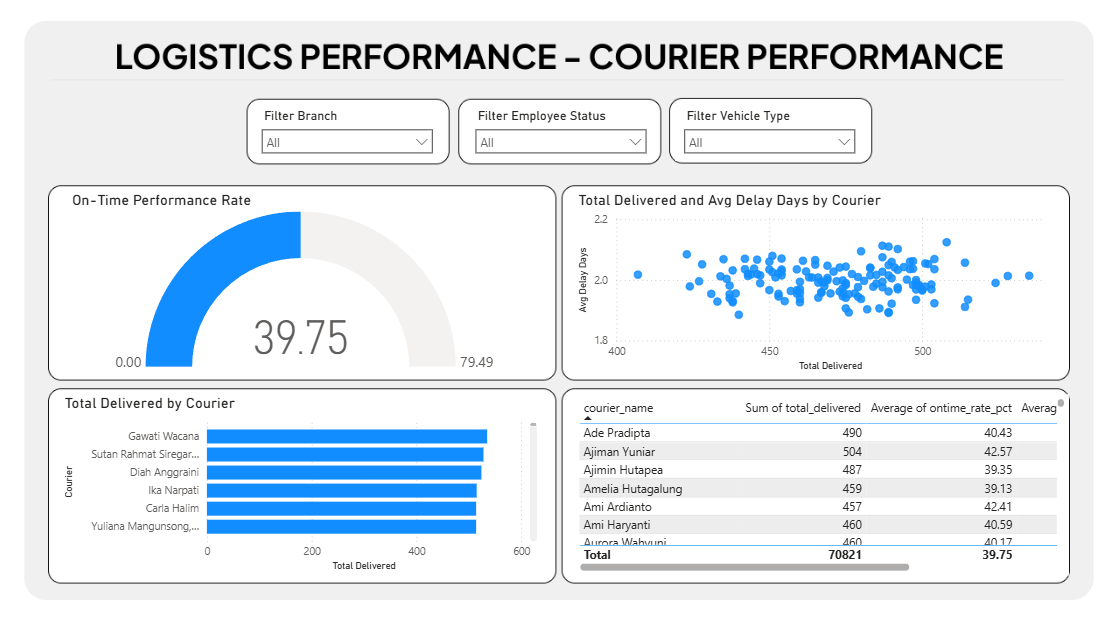

What the dashboard file says about the page in this screenshot:
{"tool":"powerbi","page":{"name":"Courier Performance","canvas":[1280,720],"ordinal":3},"visuals":[{"type":"gauge","fields":{"Y":["Avg(dw vw_CourierPerformance.ontime_rate_pct)"]},"box":[78.6,220,541.4,211.4],"z":0},{"type":"clusteredBarChart","fields":{"Category":["dw vw_CourierPerformance.courier_name"],"Y":["Sum(dw vw_CourierPerformance.total_delivered)"]},"box":[70,452.9,550,207.1],"z":1000},{"type":"scatterChart","fields":{"X":["Sum(dw vw_CourierPerformance.total_delivered)"],"Y":["Avg(dw vw_CourierPerformance.avg_delay_days)"],"Category":["dw vw_CourierPerformance.courier_name"]},"box":[657.1,220,552.9,211.4],"z":2000},{"type":"tableEx","fields":{"Values":["dw vw_CourierPerformance.courier_name","Sum(dw vw_CourierPerformance.total_delivered)","Avg(dw vw_CourierPerformance.ontime_rate_pct)","Avg(dw vw_CourierPerformance.avg_delay_days)","Sum(dw vw_CourierPerformance.total_gagal)"]},"box":[657.1,452.9,565.7,207.1],"z":3000},{"type":"slicer","fields":{"Values":["dw vw_CourierPerformance.branch_name"]},"box":[290,121.8,215.5,64.5],"z":4000},{"type":"slicer","fields":{"Values":["dw vw_CourierPerformance.vehicle_type"]},"box":[772.7,121.8,215.5,64.5],"z":5000},{"type":"slicer","fields":{"Values":["dw vw_CourierPerformance.employee_status"]},"box":[534.5,121.8,215.5,64.5],"z":6000}]}

Visuals, with their boxes in screenshot pixels (x1, y1, x2, y2), scaled from the page's 1280x720 canvas onto the 1116x623 screenshot:
gauge - Avg(dw vw_CourierPerformance.ontime_rate_pct): box(69, 190, 541, 373)
clusteredBarChart - dw vw_CourierPerformance.courier_name x Sum(dw vw_CourierPerformance.total_delivered): box(61, 392, 541, 571)
scatterChart - Sum(dw vw_CourierPerformance.total_delivered) x Avg(dw vw_CourierPerformance.avg_delay_days): box(573, 190, 1055, 373)
tableEx - dw vw_CourierPerformance.courier_name x Sum(dw vw_CourierPerformance.total_delivered): box(573, 392, 1066, 571)
slicer - dw vw_CourierPerformance.branch_name: box(253, 105, 441, 161)
slicer - dw vw_CourierPerformance.vehicle_type: box(674, 105, 862, 161)
slicer - dw vw_CourierPerformance.employee_status: box(466, 105, 654, 161)
